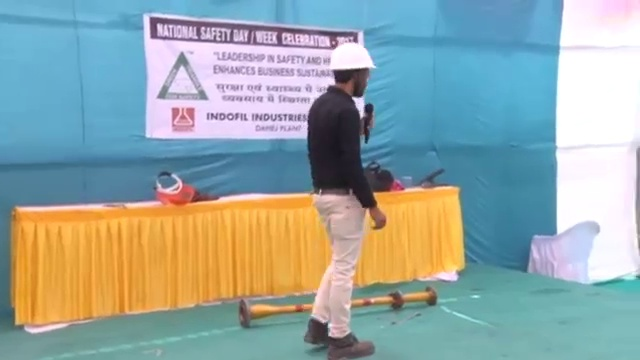helmet: (329, 42, 379, 74)
helmet_on: (328, 42, 377, 101)
person: (306, 42, 388, 360)
